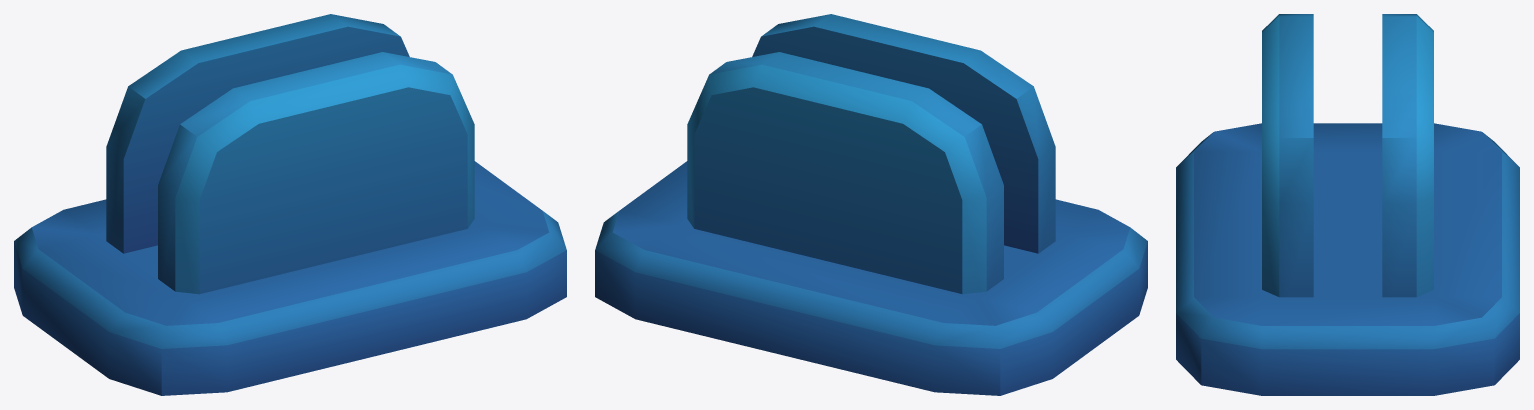
Rendered from playerstand_blue.glb.
The picture shows the model from 3 angles, left to right: view 1: azimuth 30°, elevation 25°; view 2: azimuth 150°, elevation 25°; view 3: azimuth 270°, elevation 25°; orthographic projection.
Visible parts, largest first — view 1: playerstand_blue; view 2: playerstand_blue; view 3: playerstand_blue.
Boxes of the visible parts, x1,y1,x2,y2 form: playerstand_blue: [14, 14, 566, 395]; playerstand_blue: [595, 14, 1147, 395]; playerstand_blue: [1176, 14, 1519, 395].
Bounding box in the file's own units: 0.75 × 0.375 × 0.5.
1 material, 1 textured.
